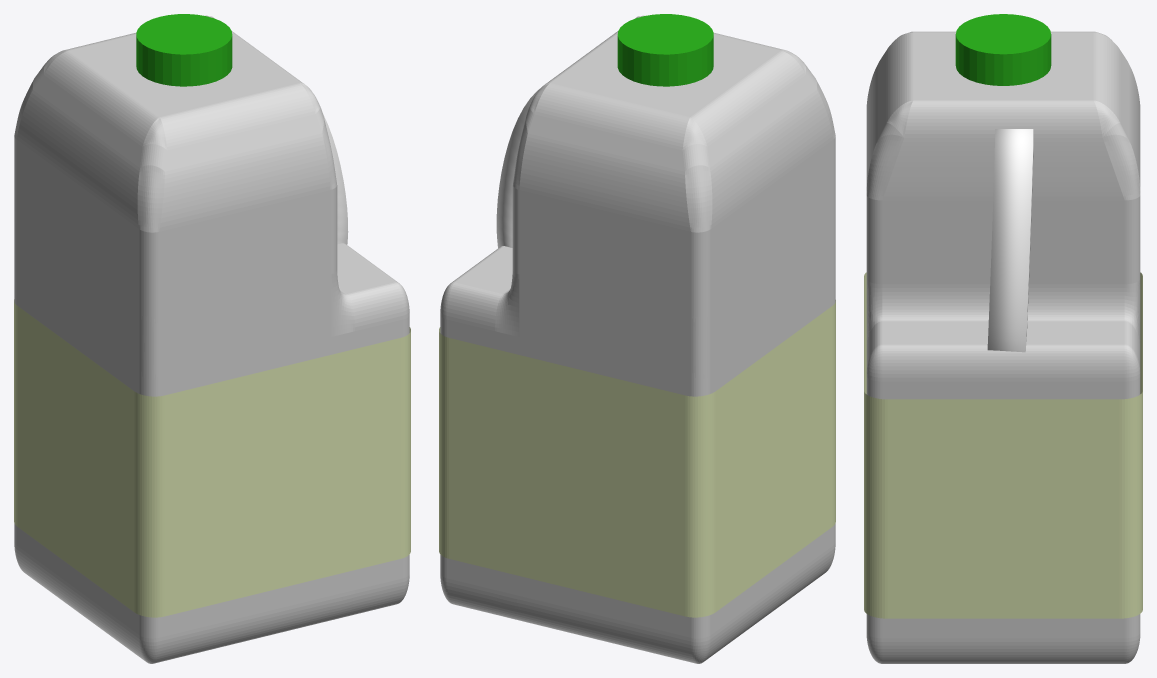
File: milk.fbx
The picture shows the model from 3 angles, left to right: view 1: azimuth 30°, elevation 25°; view 2: azimuth 150°, elevation 25°; view 3: azimuth 270°, elevation 25°; orthographic projection.
Visible parts, largest first — view 1: Cube, Cube.001, Cylinder.001, BezierCurve; view 2: Cube, Cube.001, Cylinder.001, BezierCurve; view 3: Cube, Cube.001, BezierCurve, Cylinder.001.
Boxes of the visible parts, box(x1,y1,x2,y2) form: Cube: box(14, 15, 409, 663); Cube.001: box(14, 299, 410, 617); Cylinder.001: box(136, 14, 232, 86); BezierCurve: box(323, 114, 348, 244); Cube: box(440, 15, 835, 663); Cube.001: box(439, 300, 835, 617); Cylinder.001: box(617, 14, 713, 86); BezierCurve: box(496, 89, 539, 247); Cube: box(866, 31, 1140, 663); Cube.001: box(864, 272, 1142, 618); BezierCurve: box(987, 129, 1033, 352); Cylinder.001: box(955, 14, 1051, 85).
Bounding box in the file's own units: 475 × 932 × 423.
